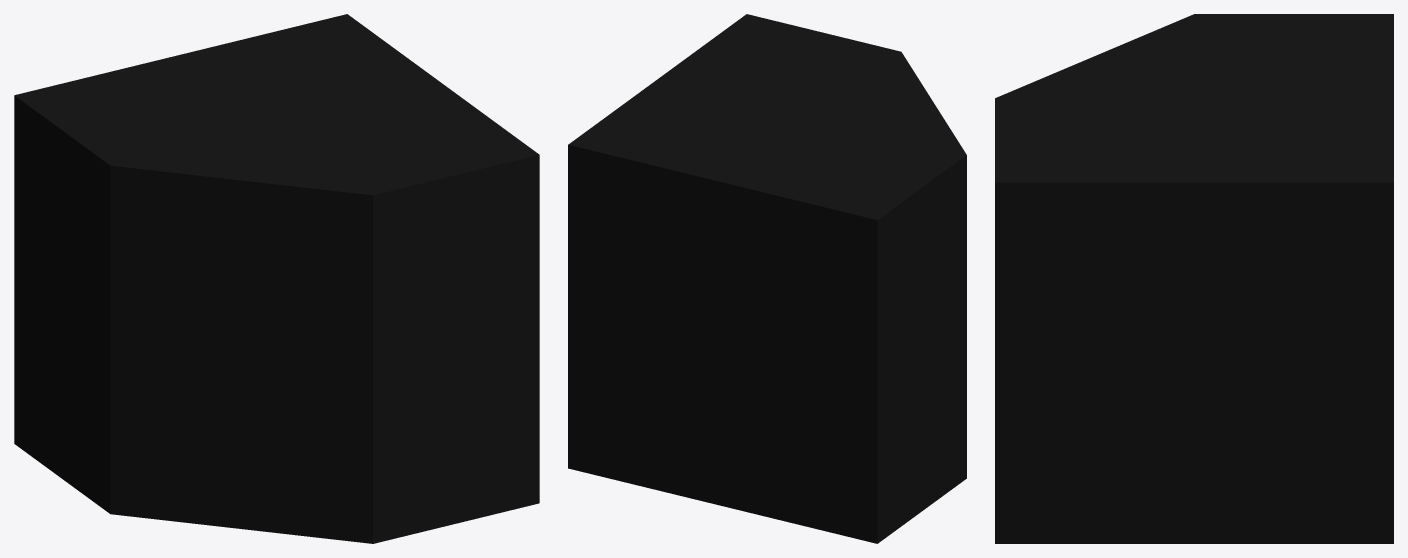
File: Tile 3F.fbx
3 renders of one model, left to right at view 1: azimuth 30°, elevation 25°; view 2: azimuth 150°, elevation 25°; view 3: azimuth 270°, elevation 25°, orthographic. The views are drawn at different scales.
Visible parts, largest first — view 1: pCube17; view 2: pCube17; view 3: pCube17.
Part boxes in pixels (bbox=[...]): pCube17: bbox=[14, 14, 539, 543]; pCube17: bbox=[568, 14, 966, 543]; pCube17: bbox=[995, 14, 1393, 543].
Bounding box in the file's own units: 1 × 1 × 1.
